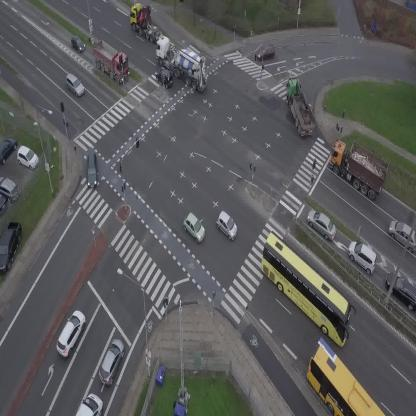bus: (244, 230, 368, 348), (290, 336, 386, 416)
car: (51, 308, 90, 358), (95, 336, 129, 387), (342, 236, 384, 276), (302, 205, 342, 244), (178, 211, 211, 244), (212, 210, 243, 241), (60, 71, 88, 99), (153, 66, 178, 90), (66, 33, 88, 55), (87, 152, 97, 187), (256, 45, 275, 60)
lorry: (319, 132, 397, 202), (144, 33, 218, 94), (84, 36, 138, 86), (279, 75, 320, 139), (76, 393, 103, 416)
